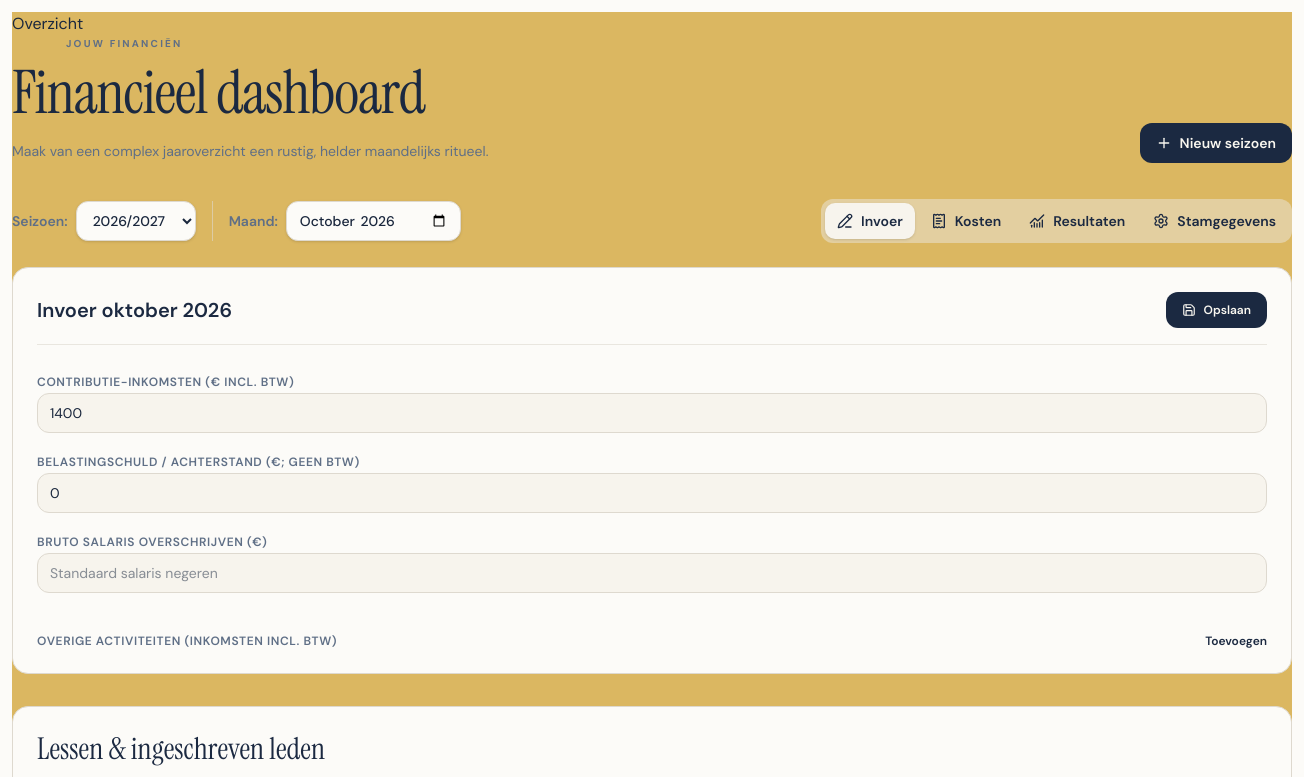
Test case: bescherming van niet-opgeslagen financiële maandinvoer › laat bij wisselen vanuit Invoer naar een leeg seizoen alleen lege invoerwaarden zien
Select "2025/2026" in the dropdown with test id "select-season" at (136, 221), box [76,201,196,241]
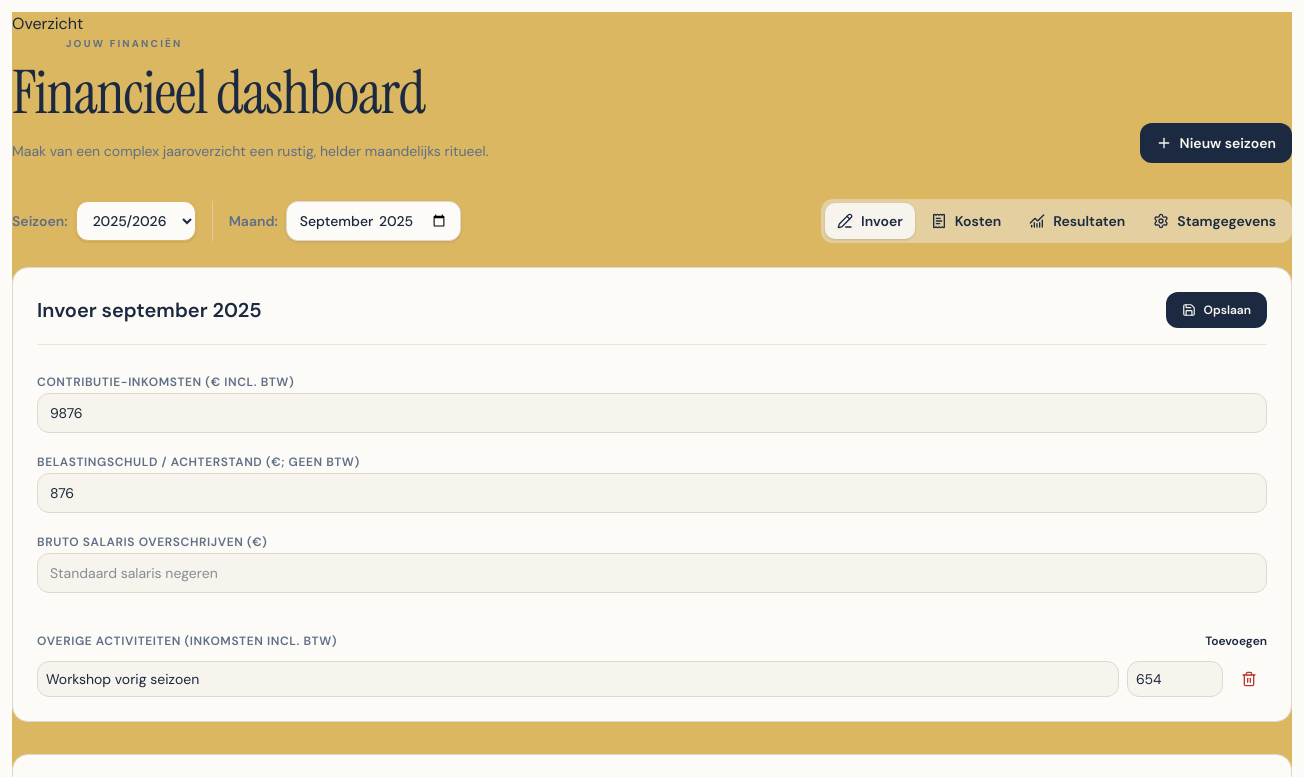
Expected: the field labelled "Contributie-inkomsten (€ incl. btw)" holds "9876", [37,393,1267,433]
Expected: the field labelled "Belastingschuld / achterstand (€; geen btw)" holds "876", [37,473,1267,513]
Expected: the 1st field with placeholder "Activiteit" holds "Workshop vorig seizoen", [37,661,1119,697]
Select "2026/2027" in the dropdown with test id "select-season" at (136, 221), box [76,201,196,241]
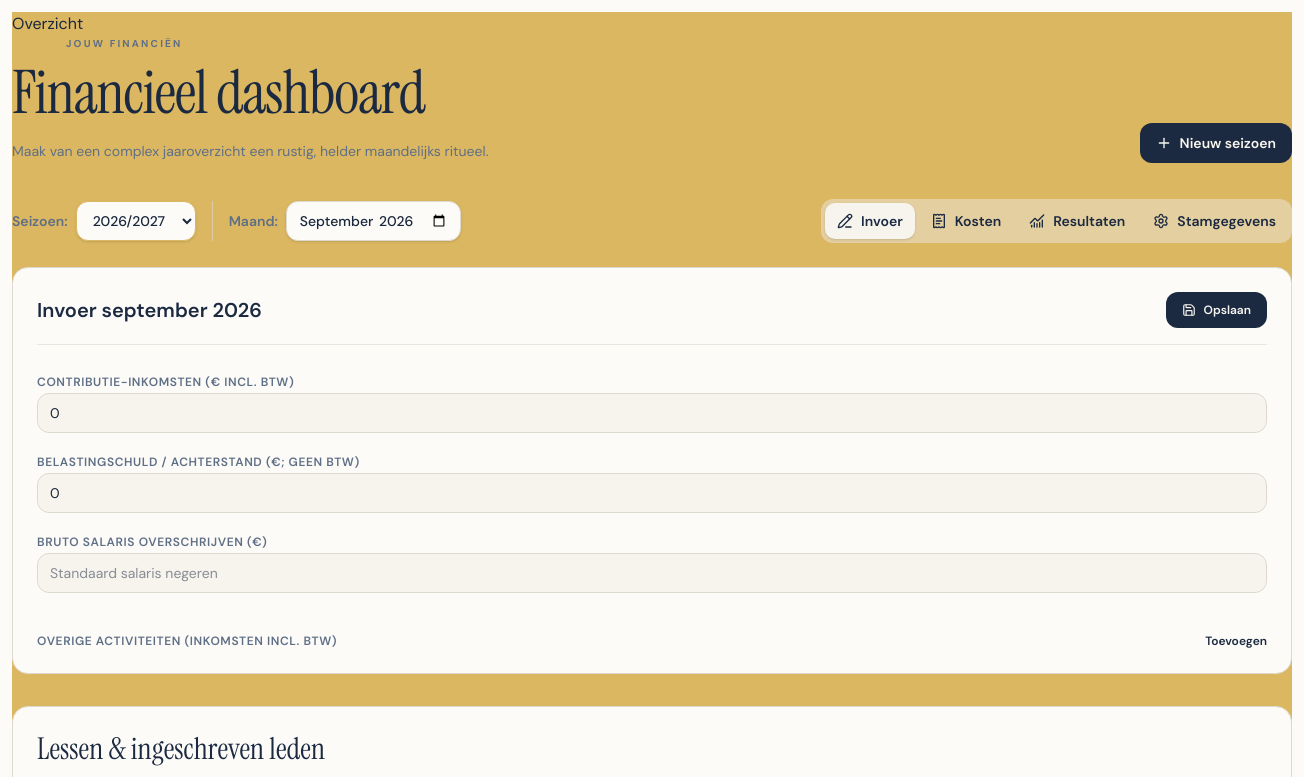
Expected: the field showing "Workshop vorig seizoen" is not shown
Expected: the field labelled "Contributie-inkomsten (€ incl. btw)" holds "0", [37,393,1267,433]
Expected: the field labelled "Belastingschuld / achterstand (€; geen btw)" holds "0", [37,473,1267,513]
